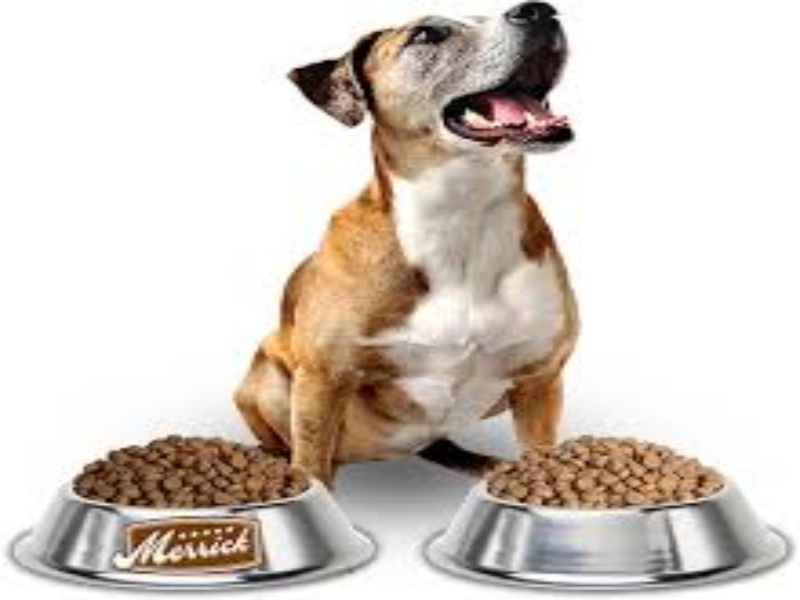dog: (252, 5, 620, 469)
